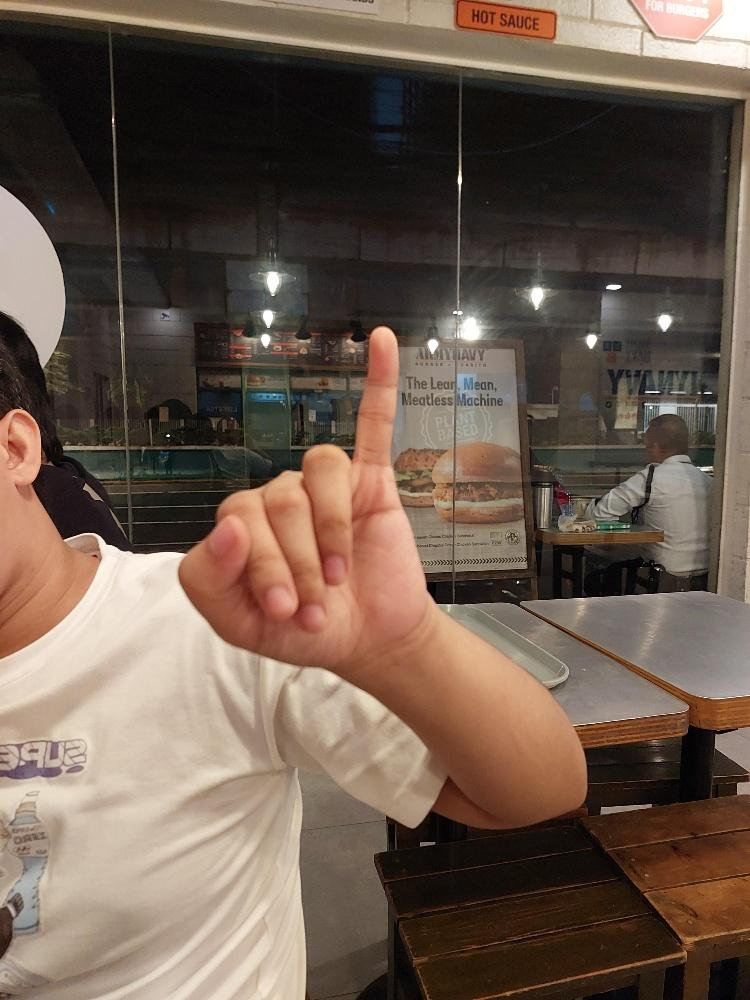i: (176, 321, 427, 673)
